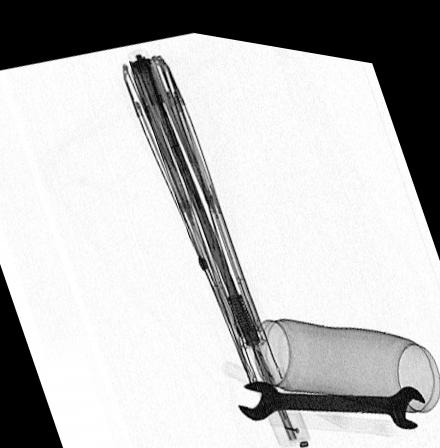Wrench: (234, 369, 428, 414)
